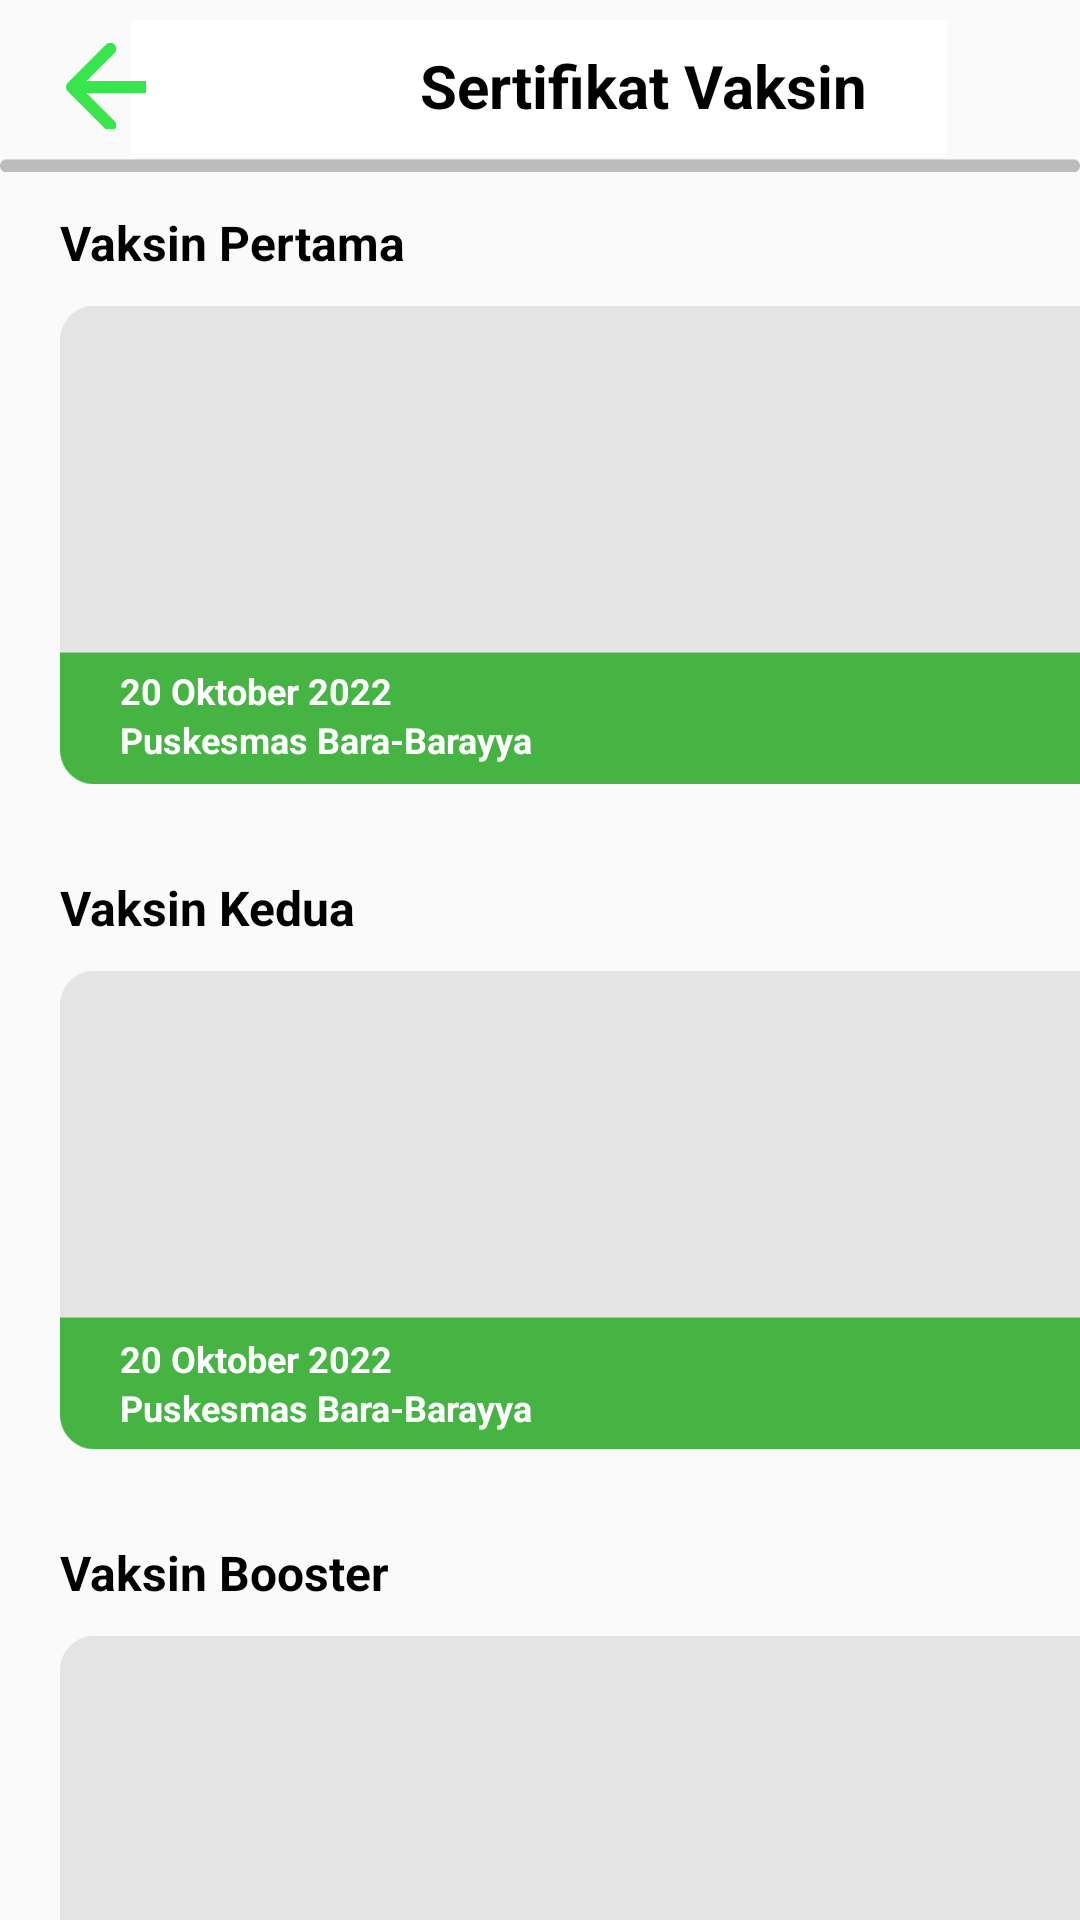

Point at icon controls on the screen. Image size 1080*1920, points as point (x, y).
back: point (106, 85)
